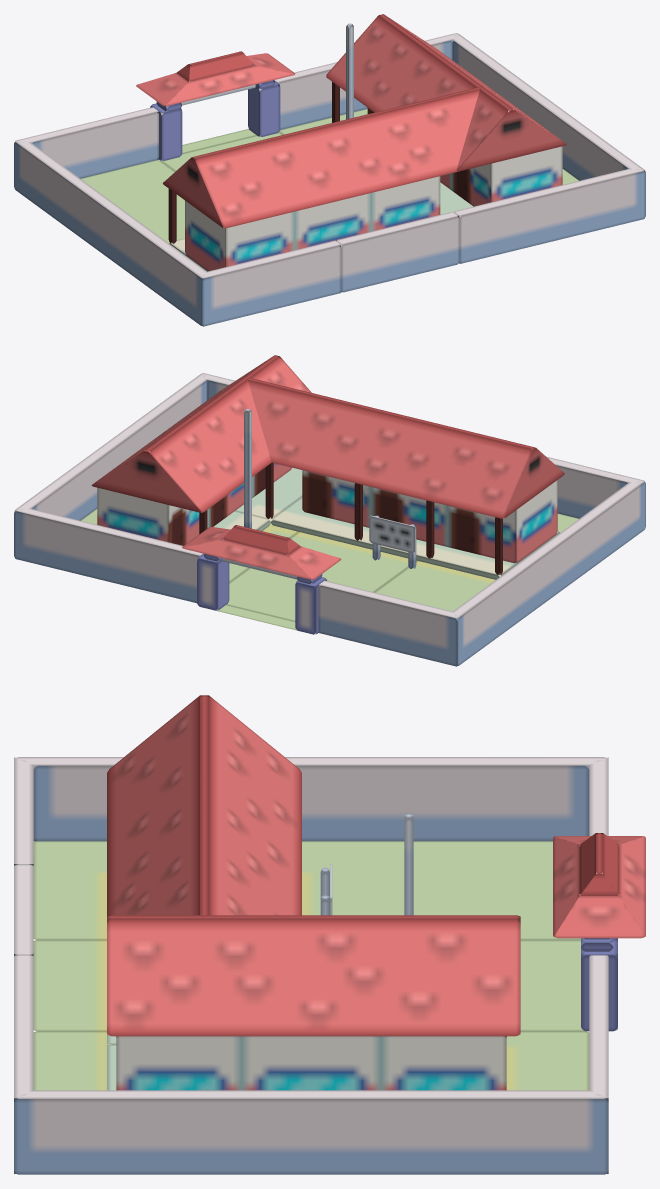
File: Sekolah_SD.fbx
The picture shows the model from 3 angles, top to bottom: view 1: azimuth 30°, elevation 25°; view 2: azimuth 150°, elevation 25°; view 3: azimuth 270°, elevation 25°; orthographic projection. The views are drawn at different scales.
Parts seen in each view (by area): view 1: Pagar, Atap2, Atap1, Ruangan2, plane, cube_1, Ruangan1, cube, cube_9, Lantai, Tiang_Bendera, Tiang3; view 2: Pagar, Atap2, Atap1, plane, Ruangan2, Lantai, Ruangan1, cube_1, cube, Papan, cube_9, Tiang_Bendera (+4 smaller); view 3: Pagar, Atap1, plane, Atap2, Ruangan1, cube_1, cube, Tiang_Bendera.
Part boxes in pixels (bbox=[...]): Pagar: bbox=[14, 33, 645, 326]; Atap2: bbox=[163, 87, 480, 228]; Atap1: bbox=[326, 14, 566, 171]; Ruangan2: bbox=[185, 176, 440, 271]; plane: bbox=[80, 109, 578, 243]; cube_1: bbox=[136, 51, 295, 106]; Ruangan1: bbox=[367, 108, 562, 206]; cube: bbox=[248, 80, 280, 136]; cube_9: bbox=[150, 103, 182, 160]; Lantai: bbox=[169, 182, 472, 271]; Tiang_Bendera: bbox=[346, 23, 353, 119]; Tiang3: bbox=[168, 189, 176, 243]; Pagar: bbox=[14, 373, 645, 666]; Atap2: bbox=[246, 378, 564, 518]; Atap1: bbox=[91, 355, 311, 512]; plane: bbox=[81, 509, 578, 633]; Ruangan2: bbox=[302, 470, 557, 563]; Lantai: bbox=[213, 467, 559, 579]; Ruangan1: bbox=[97, 463, 291, 545]; cube_1: bbox=[182, 525, 341, 579]; cube: bbox=[197, 553, 229, 610]; Papan: bbox=[369, 515, 415, 553]; cube_9: bbox=[295, 577, 327, 634]; Tiang_Bendera: bbox=[244, 409, 251, 528]; Pagar: bbox=[14, 757, 608, 1174]; Atap1: bbox=[107, 915, 520, 1036]; plane: bbox=[33, 841, 617, 1090]; Atap2: bbox=[107, 695, 301, 916]; Ruangan1: bbox=[116, 1036, 506, 1090]; cube_1: bbox=[553, 833, 645, 938]; cube: bbox=[581, 940, 617, 1031]; Tiang_Bendera: bbox=[404, 813, 413, 915].
Bounding box in the file's own units: 4350 × 1350 × 3400.
1 material, 1 textured.
